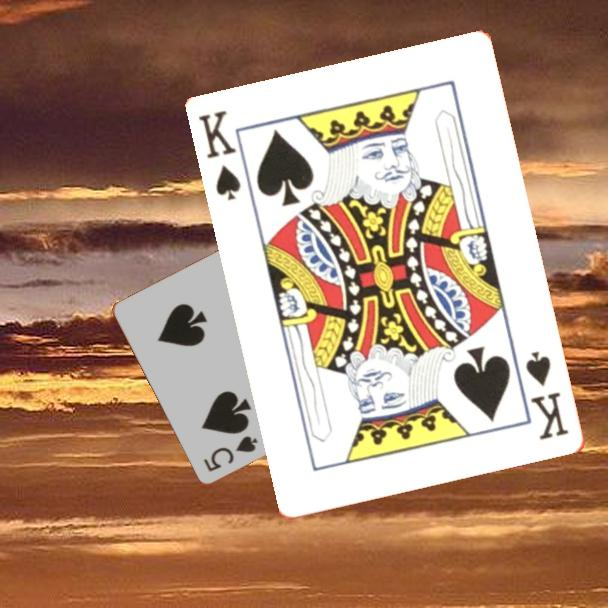s05: (200, 432, 261, 474)
s13: (195, 107, 245, 204), (522, 348, 572, 444)
